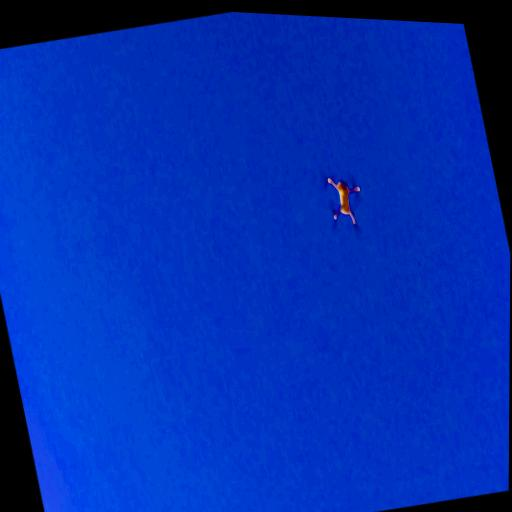drones: (314, 154, 374, 246)
